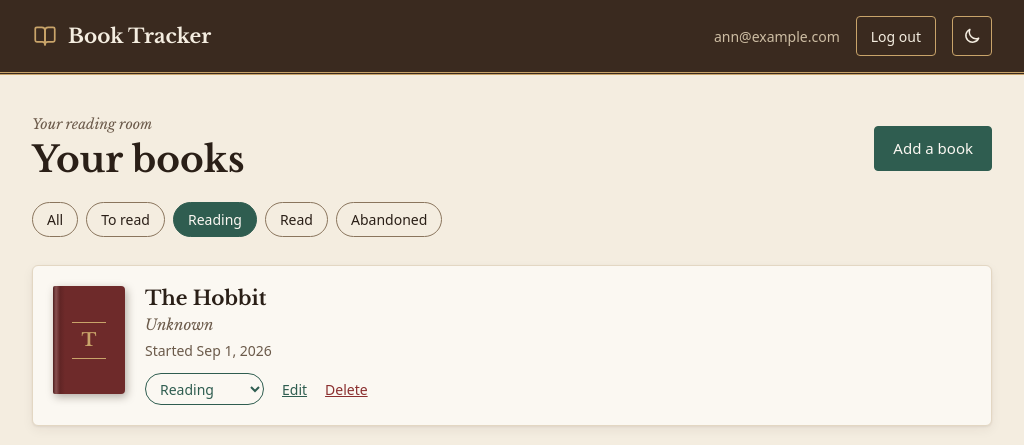
Test: changing the status › drops the book from a filtered list it no longer matches
Select "Read" in the dropdown at (204, 389), box [145, 373, 264, 405]
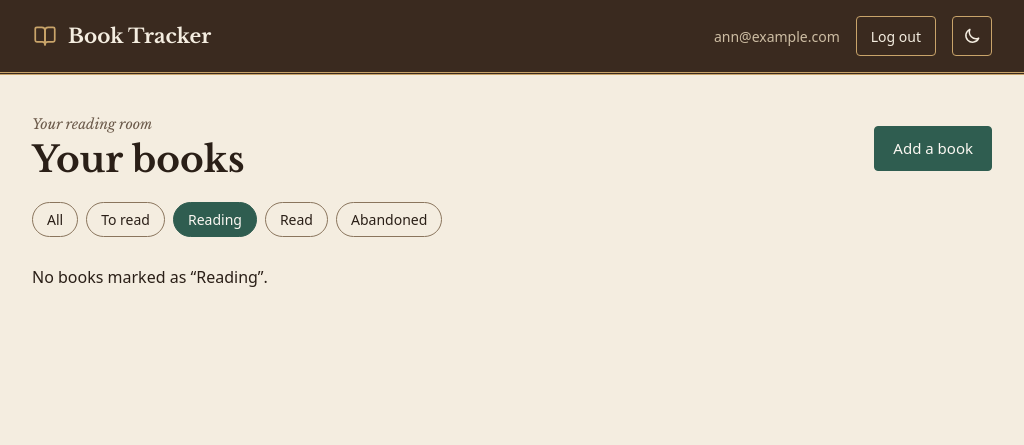
Result: the heading "The Hobbit" is gone
Result: the text "No books marked as “Reading”." is shown at [32, 266, 268, 288]
